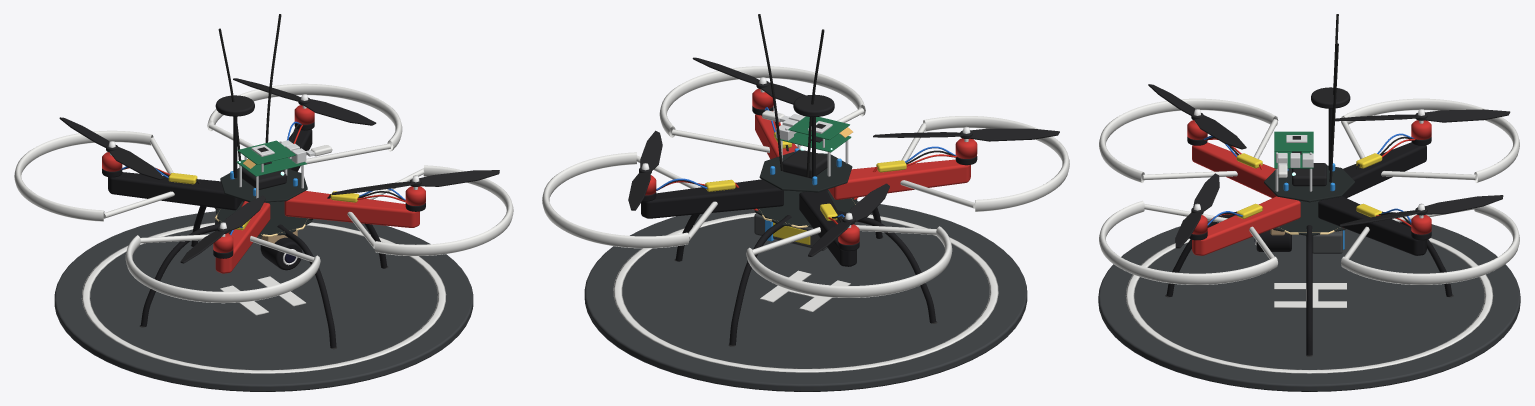
The picture shows the model from 3 angles, left to right: view 1: azimuth 30°, elevation 25°; view 2: azimuth 150°, elevation 25°; view 3: azimuth 270°, elevation 25°; orthographic projection. The views are drawn at different scales.
Visible parts, largest first — view 1: ba_pad, ba_pad_ring, ba_arm.001, ba_arm.003, ba_guard.003, ba_guard, ba_guard.001, ba_guard.002, ba_plate_top, ba_arm, ba_plate_bot, ba_blade.003 (+14 smaller); view 2: ba_pad, ba_pad_ring, ba_arm.002, ba_guard.002, ba_arm, ba_guard.003, ba_guard, ba_guard.001, ba_plate_top, ba_arm.003, ba_plate_bot, ba_blade.001 (+22 smaller); view 3: ba_pad, ba_pad_ring, ba_guard.001, ba_guard.002, ba_arm.001, ba_guard, ba_arm.002, ba_guard.003, ba_arm, ba_arm.003, ba_plate_top, ba_plate_bot (+22 smaller).
Part boxes in pixels (box(x1,y1,x2,y2)): ba_pad: box(54, 211, 473, 391); ba_pad_ring: box(81, 222, 446, 373); ba_arm.001: box(284, 191, 419, 227); ba_arm.003: box(108, 172, 242, 210); ba_guard.003: box(14, 130, 153, 221); ba_guard: box(125, 235, 320, 303); ba_guard.001: box(374, 165, 513, 256); ba_guard.002: box(207, 83, 402, 151); ba_plate_top: box(220, 167, 307, 202); ba_arm: box(215, 201, 270, 273); ba_plate_bot: box(215, 201, 312, 236); ba_blade.003: box(419, 170, 499, 186); ba_pad: box(584, 201, 1027, 391); ba_pad_ring: box(613, 212, 998, 372); ba_arm.002: box(641, 179, 783, 218); ba_guard.002: box(542, 152, 688, 248); ba_arm: box(828, 159, 970, 199); ba_guard.003: box(746, 226, 952, 297); ba_guard: box(923, 116, 1069, 211); ba_guard.001: box(659, 66, 865, 137); ba_plate_top: box(759, 152, 852, 192); ba_arm.003: box(799, 190, 856, 266); ba_plate_bot: box(754, 190, 857, 227); ba_blade.001: box(969, 128, 1059, 141); ba_pad: box(1098, 216, 1520, 391); ba_pad_ring: box(1125, 238, 1493, 373); ba_guard.001: box(1099, 200, 1277, 284); ba_guard.002: box(1341, 205, 1519, 284); ba_arm.001: box(1192, 196, 1300, 255); ba_guard: box(1099, 98, 1278, 182); ba_arm.002: box(1318, 196, 1426, 255); ba_guard.003: box(1341, 98, 1519, 182); ba_arm: box(1192, 142, 1276, 197); ba_arm.003: box(1342, 142, 1426, 197); ba_plate_top: box(1264, 165, 1354, 202); ba_plate_bot: box(1273, 200, 1345, 235).
Bounding box in the file's own units: 0.6 × 0.4323 × 0.6.
